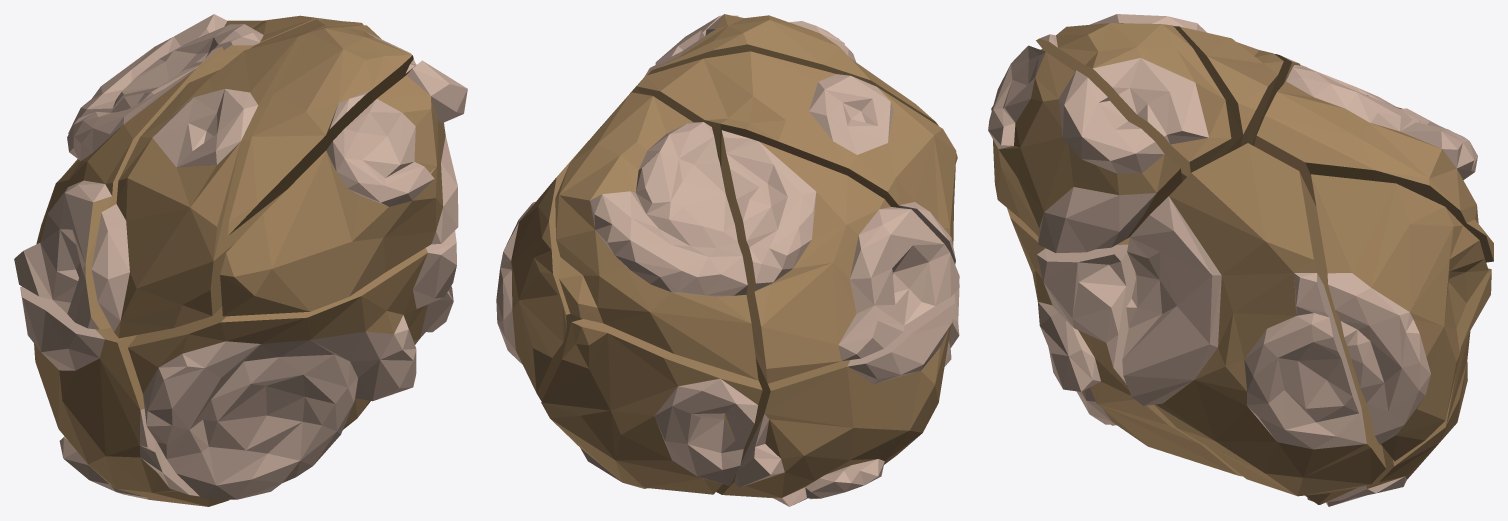
The model's file is SM_LP_FossilNode_3_Pieces.fbx.
3 renders of one model, left to right at view 1: azimuth 30°, elevation 25°; view 2: azimuth 150°, elevation 25°; view 3: azimuth 270°, elevation 25°, orthographic. The views are drawn at different scales.
Visible parts, largest first — view 1: SM_LP_FossilNode_3_Pieces_4, SM_LP_FossilNode_3_Pieces_8, SM_LP_FossilNode_3_Pieces_3, SM_LP_FossilNode_3_Pieces_1, SM_LP_FossilNode_3_Pieces_7, SM_LP_FossilNode_3_Pieces_2, SM_LP_FossilNode_3_Pieces_5; view 2: SM_LP_FossilNode_3_Pieces_5, SM_LP_FossilNode_3_Pieces_2, SM_LP_FossilNode_3_Pieces_3, SM_LP_FossilNode_3_Pieces_6, SM_LP_FossilNode_3_Pieces_1, SM_LP_FossilNode_3_Pieces_10, SM_LP_FossilNode_3_Pieces_7, SM_LP_FossilNode_3_Pieces_8; view 3: SM_LP_FossilNode_3_Pieces_9, SM_LP_FossilNode_3_Pieces_10, SM_LP_FossilNode_3_Pieces_8, SM_LP_FossilNode_3_Pieces_5, SM_LP_FossilNode_3_Pieces_4, SM_LP_FossilNode_3_Pieces_7, SM_LP_FossilNode_3_Pieces_3, SM_LP_FossilNode_3_Pieces_6, SM_LP_FossilNode_3_Pieces_2.
Boxes of the visible parts, left/top/right/bottom form: SM_LP_FossilNode_3_Pieces_4: left=128, top=231, right=456, bottom=499; SM_LP_FossilNode_3_Pieces_8: left=220, top=60, right=467, bottom=316; SM_LP_FossilNode_3_Pieces_3: left=91, top=19, right=363, bottom=338; SM_LP_FossilNode_3_Pieces_1: left=20, top=286, right=229, bottom=506; SM_LP_FossilNode_3_Pieces_7: left=228, top=25, right=416, bottom=235; SM_LP_FossilNode_3_Pieces_2: left=14, top=46, right=223, bottom=329; SM_LP_FossilNode_3_Pieces_5: left=65, top=14, right=339, bottom=173; SM_LP_FossilNode_3_Pieces_5: left=555, top=92, right=758, bottom=380; SM_LP_FossilNode_3_Pieces_2: left=721, top=130, right=959, bottom=383; SM_LP_FossilNode_3_Pieces_3: left=630, top=51, right=956, bottom=264; SM_LP_FossilNode_3_Pieces_6: left=541, top=319, right=762, bottom=494; SM_LP_FossilNode_3_Pieces_1: left=716, top=294, right=955, bottom=506; SM_LP_FossilNode_3_Pieces_10: left=496, top=140, right=588, bottom=401; SM_LP_FossilNode_3_Pieces_7: left=644, top=14, right=938, bottom=125; SM_LP_FossilNode_3_Pieces_8: left=655, top=15, right=957, bottom=162; SM_LP_FossilNode_3_Pieces_9: left=1122, top=143, right=1386, bottom=504; SM_LP_FossilNode_3_Pieces_10: left=1311, top=174, right=1488, bottom=461; SM_LP_FossilNode_3_Pieces_8: left=988, top=45, right=1182, bottom=253; SM_LP_FossilNode_3_Pieces_5: left=1254, top=65, right=1493, bottom=262; SM_LP_FossilNode_3_Pieces_4: left=1007, top=208, right=1242, bottom=476; SM_LP_FossilNode_3_Pieces_7: left=1036, top=23, right=1231, bottom=176; SM_LP_FossilNode_3_Pieces_3: left=1090, top=14, right=1283, bottom=181; SM_LP_FossilNode_3_Pieces_6: left=1307, top=268, right=1491, bottom=506; SM_LP_FossilNode_3_Pieces_2: left=1251, top=54, right=1402, bottom=145.
Size of the model in its own units: 0.8084 by 0.8773 by 0.8352.
